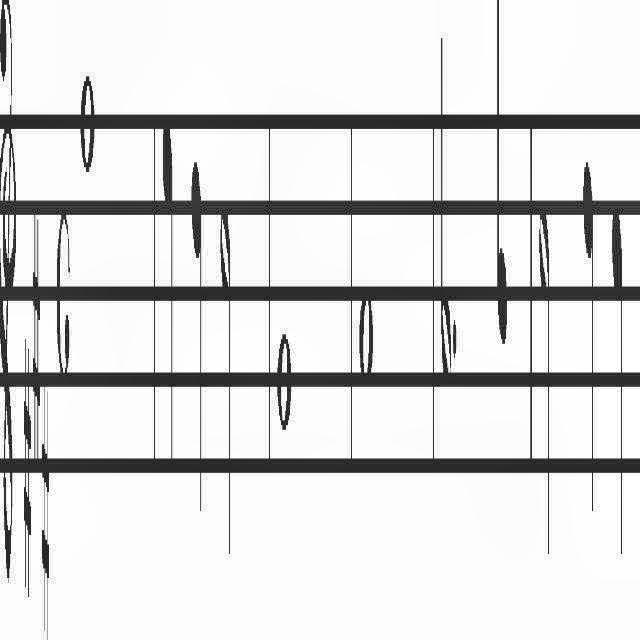Bass-clef: (0, 0, 16, 596)
Diez: (32, 204, 40, 480), (23, 332, 31, 598), (42, 394, 50, 638)
Full-note: (276, 325, 292, 443), (358, 284, 374, 380), (80, 75, 94, 182)
Half-note: (220, 193, 232, 572), (538, 196, 550, 572), (441, 16, 451, 392)
Quarter-note: (190, 160, 203, 524), (162, 112, 174, 480), (611, 204, 623, 560), (583, 156, 595, 504), (496, 0, 508, 344)
